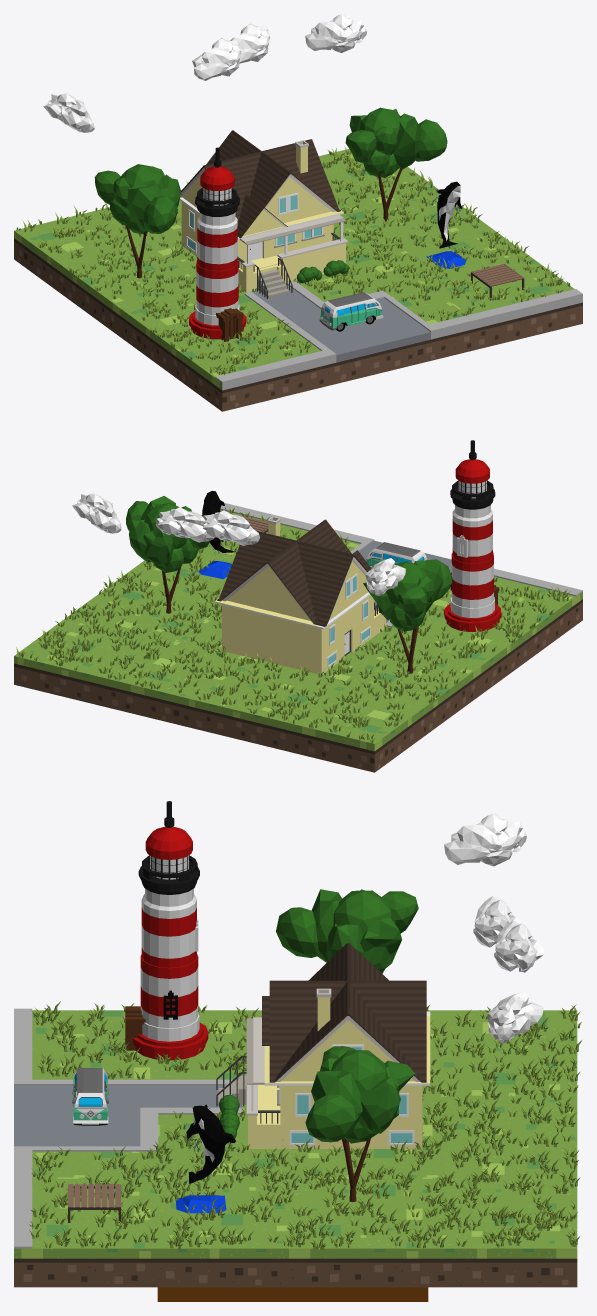
3 views of the same model, one above another, from view 1: azimuth 30°, elevation 25°; view 2: azimuth 150°, elevation 25°; view 3: azimuth 270°, elevation 25° (orthographic). The views are drawn at different scales.
Visible parts, largest first — view 1: Cube.006, Circle.012_Grass_0.192, Cube.1555, OBJRANDOM_LIGHTHOUSE, Cube.007, tree, tree.001, VEHICLES_VAN, ANIMAL_ORCA, Cube.009; view 2: Cube.006, Cube.1555, Circle.012_Grass_0.192, OBJRANDOM_LIGHTHOUSE, Cube.007, tree.001, tree, ANIMAL_ORCA, VEHICLES_VAN; view 3: Cube.006, Circle.012_Grass_0.192, Cube.1555, OBJRANDOM_LIGHTHOUSE, tree, Cube.007, tree.001, UNDERGROUND_ART_PIECE_VAN_GOGH, ANIMAL_ORCA, VEHICLES_VAN, Cube.009.
Part boxes in pixels (x1,y1,x2,y2): Cube.006: (14, 149, 582, 411); Circle.012_Grass_0.192: (16, 146, 570, 374); Cube.1555: (179, 130, 348, 298); OBJRANDOM_LIGHTHOUSE: (189, 147, 246, 341); Cube.007: (43, 14, 367, 132); tree: (345, 107, 447, 221); tree.001: (94, 164, 180, 278); VEHICLES_VAN: (319, 292, 383, 331); ANIMAL_ORCA: (426, 181, 465, 268); Cube.009: (471, 263, 524, 297); Cube.006: (14, 502, 582, 772); Cube.1555: (214, 516, 385, 674); Circle.012_Grass_0.192: (16, 507, 570, 742); OBJRANDOM_LIGHTHOUSE: (444, 440, 501, 631); Cube.007: (72, 493, 405, 596); tree.001: (363, 559, 452, 673); tree: (126, 496, 210, 613); ANIMAL_ORCA: (198, 490, 236, 579); VEHICLES_VAN: (366, 542, 427, 568); Cube.006: (14, 1008, 577, 1287); Circle.012_Grass_0.192: (29, 1001, 581, 1249); Cube.1555: (216, 943, 430, 1148); OBJRANDOM_LIGHTHOUSE: (125, 801, 208, 1060); tree: (305, 1046, 415, 1201); Cube.007: (444, 813, 543, 1043); tree.001: (276, 889, 418, 973); UNDERGROUND_ART_PIECE_VAN_GOGH: (157, 1287, 428, 1301); ANIMAL_ORCA: (176, 1104, 235, 1213); VEHICLES_VAN: (72, 1068, 108, 1125); Cube.009: (68, 1184, 120, 1222).
Size of the model in its own units: 4071 by 2413 by 4040.
Materials: 41 (4 with a texture image).
